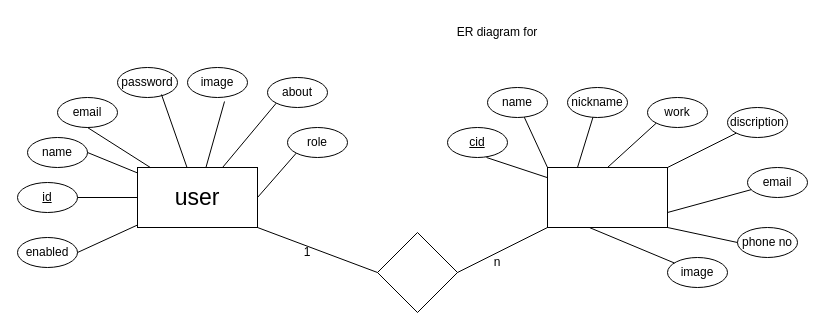
This 825x330 diagram has some shape labels left out. The shapes that lost their labels are listed below. From the top down, each one's centre as x and y in pixels, then its label:
point 607,197: Contact
point 417,272: has
